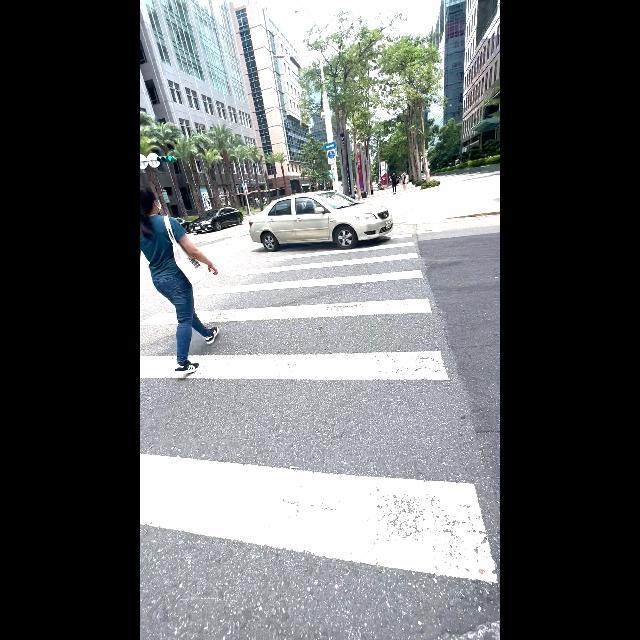sidewalk: (140, 224, 500, 599)
